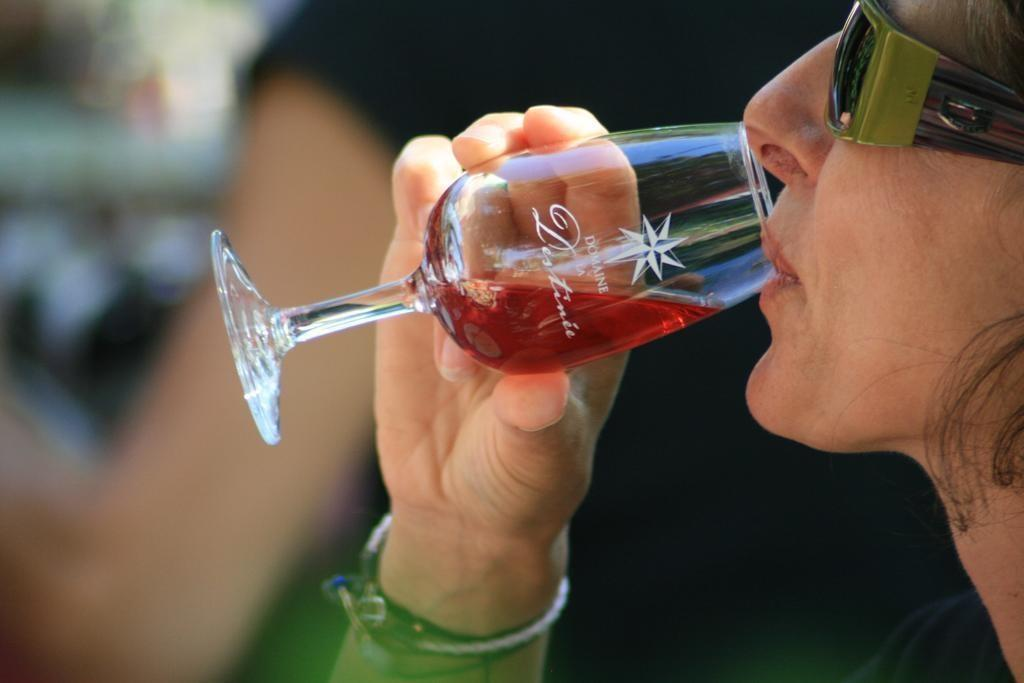glass-wine: (210, 117, 785, 446)
